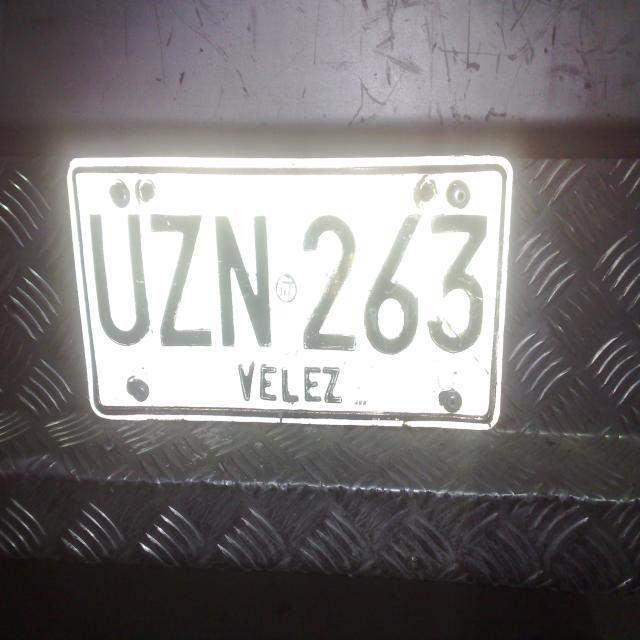placa: (62, 150, 516, 433)
